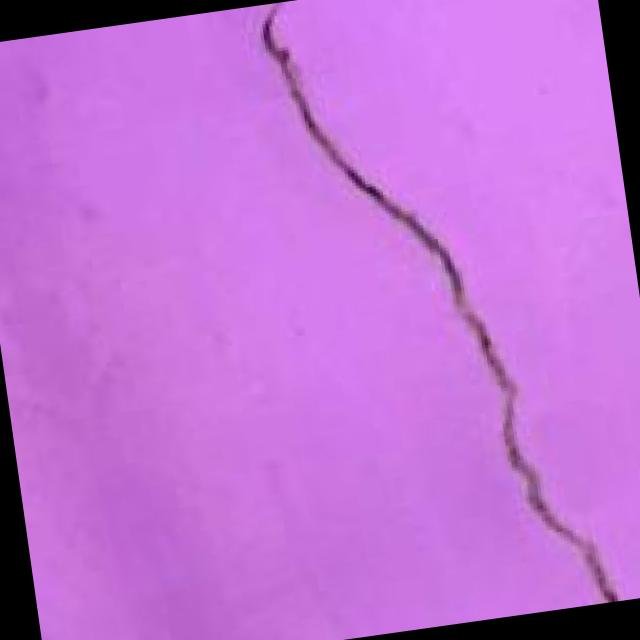crack: (250, 0, 617, 637)
